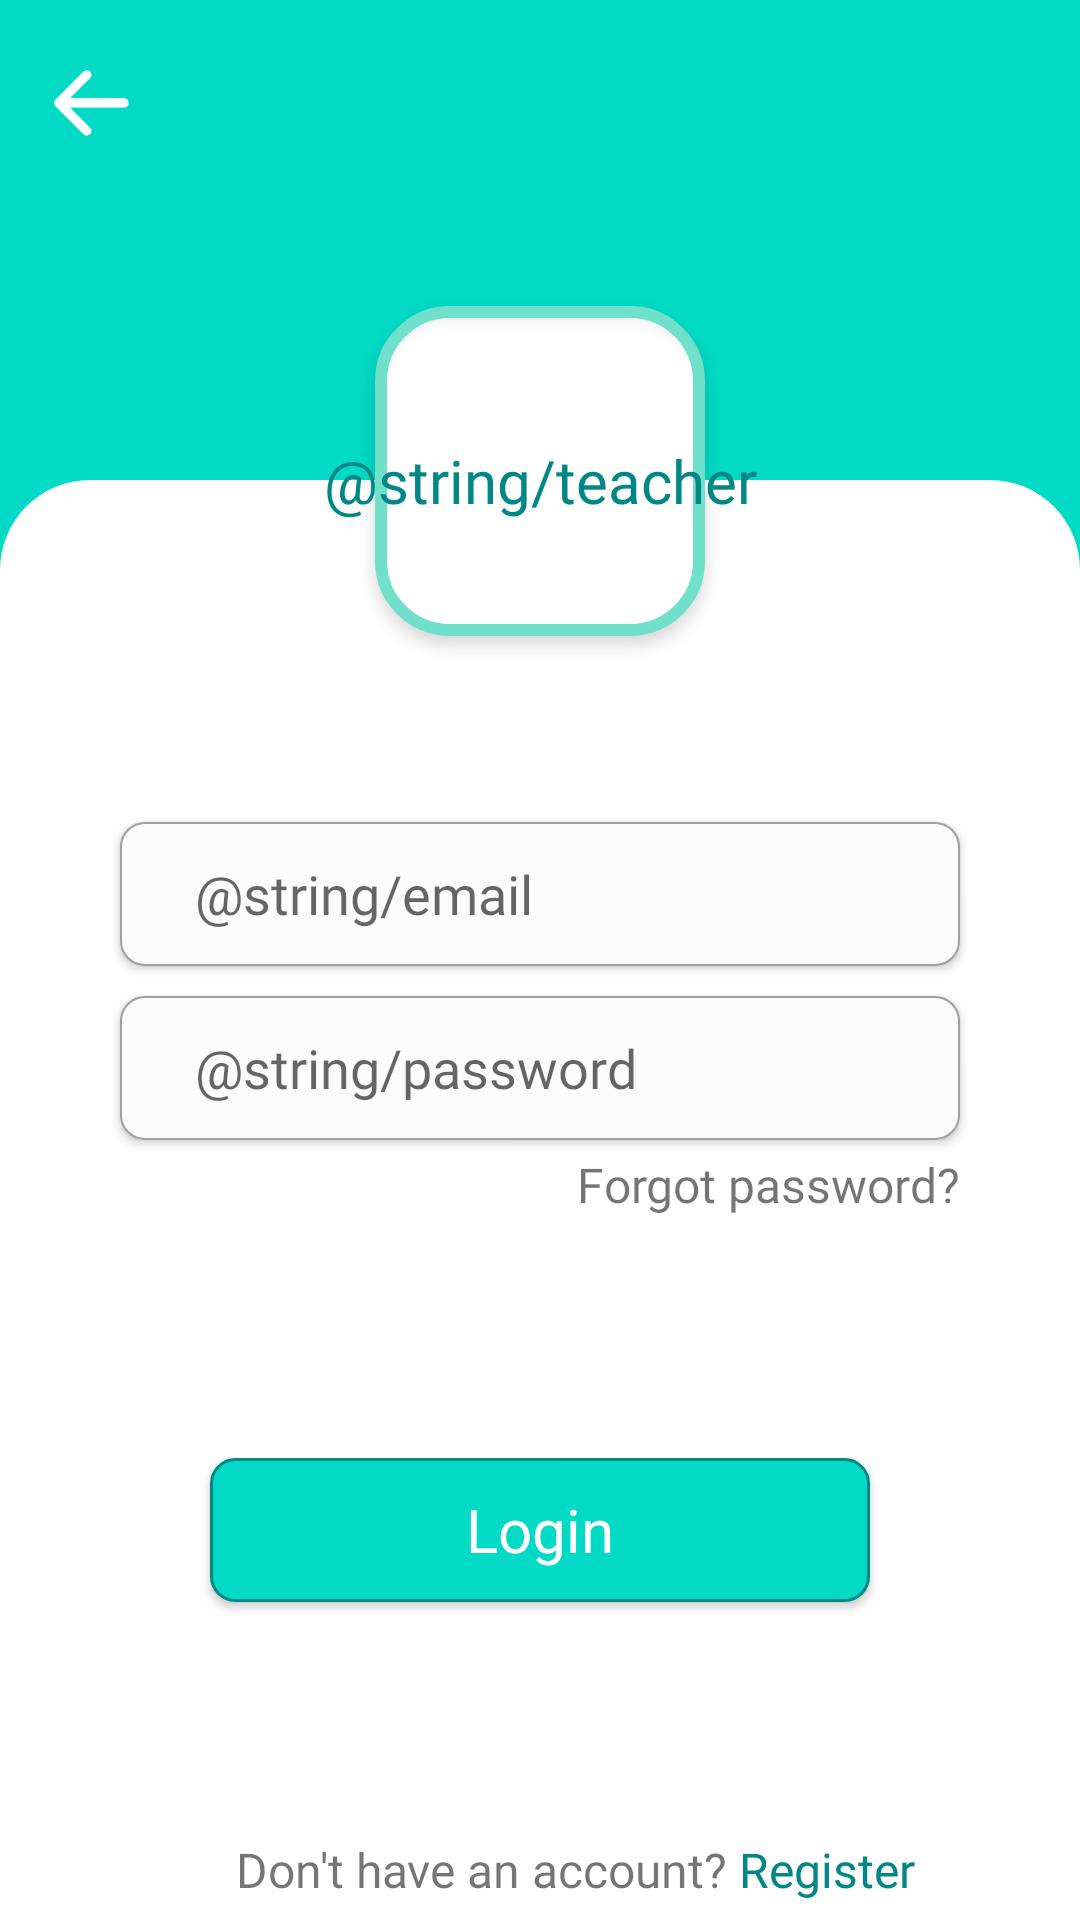

Where to tap for icons on this 1080px×1920px app screen, as (x=x, y=y):
Back Arrow: (x=91, y=103)
